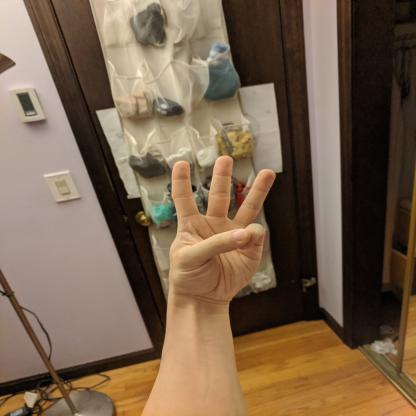W: (162, 152, 278, 302)
